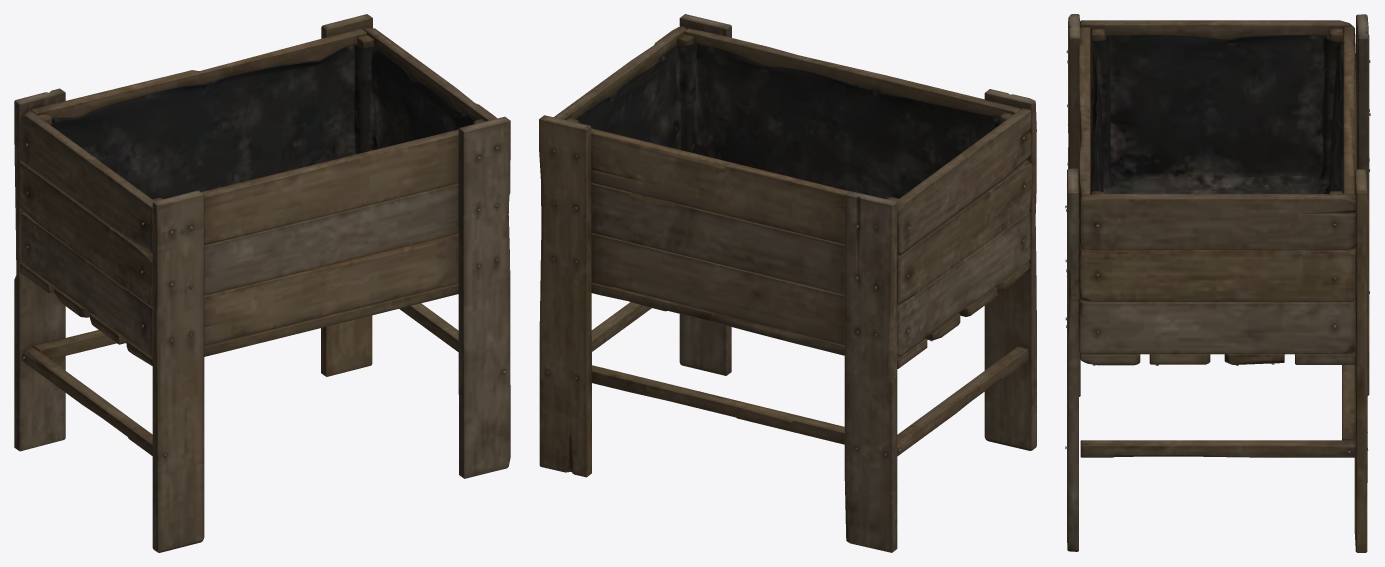
File: planter_box_03.glb
3 renders of one model, left to right at view 1: azimuth 30°, elevation 25°; view 2: azimuth 150°, elevation 25°; view 3: azimuth 270°, elevation 25°, orthographic. The views are drawn at different scales.
Visible parts, largest first — view 1: planter_box_03; view 2: planter_box_03; view 3: planter_box_03.
Part boxes in pixels (x1,y1,x2,y2): planter_box_03: (14, 14, 510, 552); planter_box_03: (539, 14, 1036, 552); planter_box_03: (1065, 14, 1370, 552).
Size of the model in its own units: 0.9143 by 0.8552 by 0.6556.
Materials: 1 (1 with a texture image).
